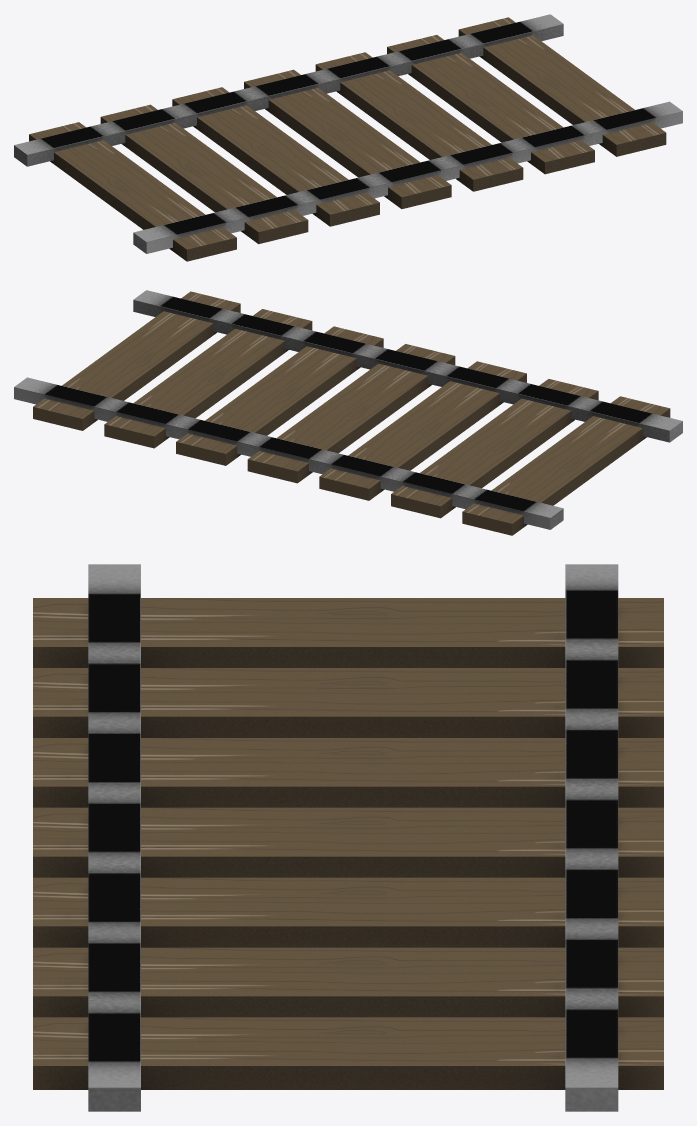
The model's file is Prop_Track.FBX.
The picture shows the model from 3 angles, top to bottom: view 1: azimuth 30°, elevation 25°; view 2: azimuth 150°, elevation 25°; view 3: azimuth 270°, elevation 25°; orthographic projection. The views are drawn at different scales.
Parts seen in each view (by area): view 1: Box028; view 2: Box028; view 3: Box028.
Boxes of the visible parts, box(x1,y1,x2,y2) form: Box028: box(14, 14, 682, 261); Box028: box(14, 290, 682, 535); Box028: box(33, 564, 663, 1111).
Bounding box in the file's own units: 468 × 13.32 × 239.
